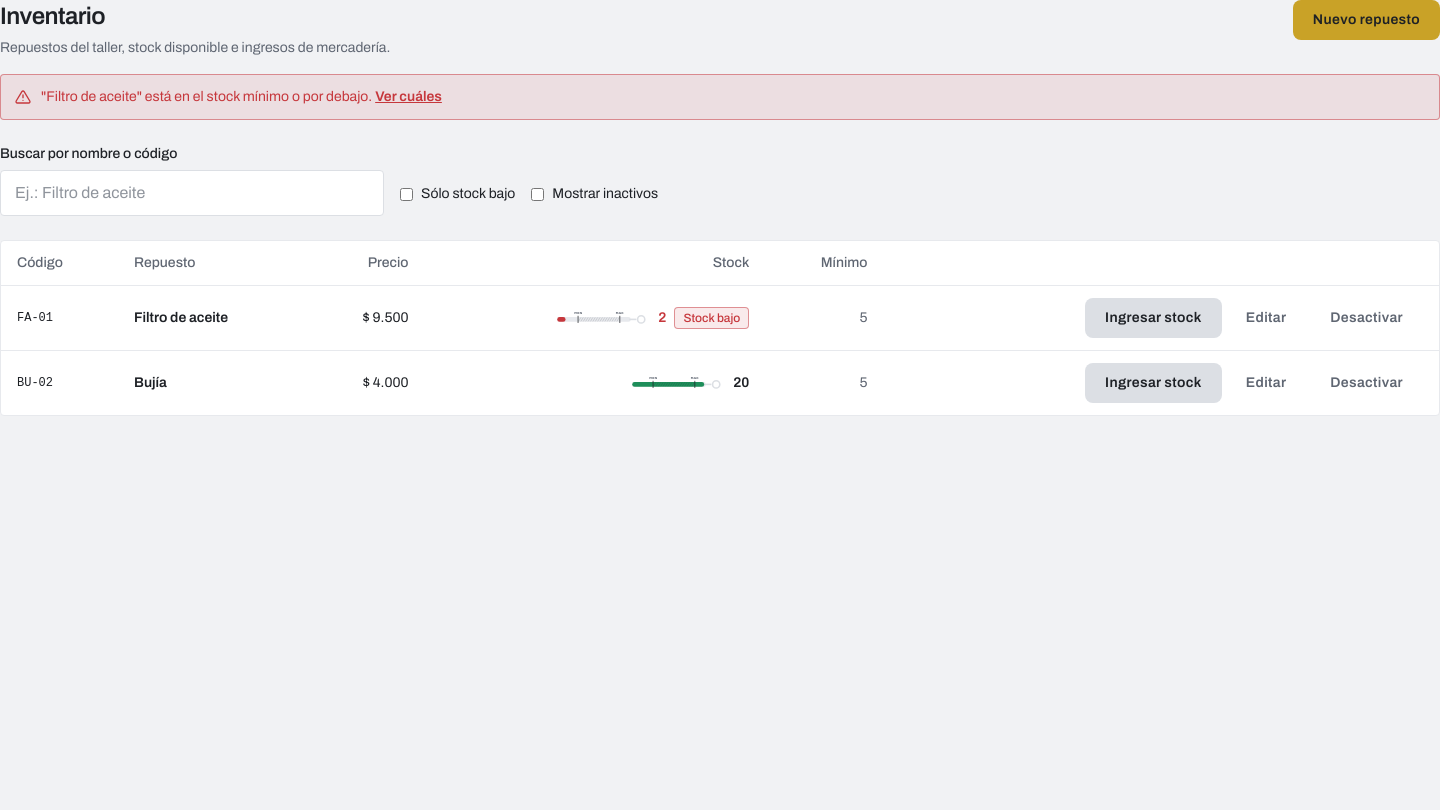
Scenario: Inventario › ingresar stock valida la cantidad y suma las unidades
Expected: the table is shown, [1, 241, 1439, 415]
Click the button "Ingresar stock" in the row of "FA-01" at (1153, 318), box [1085, 298, 1222, 338]
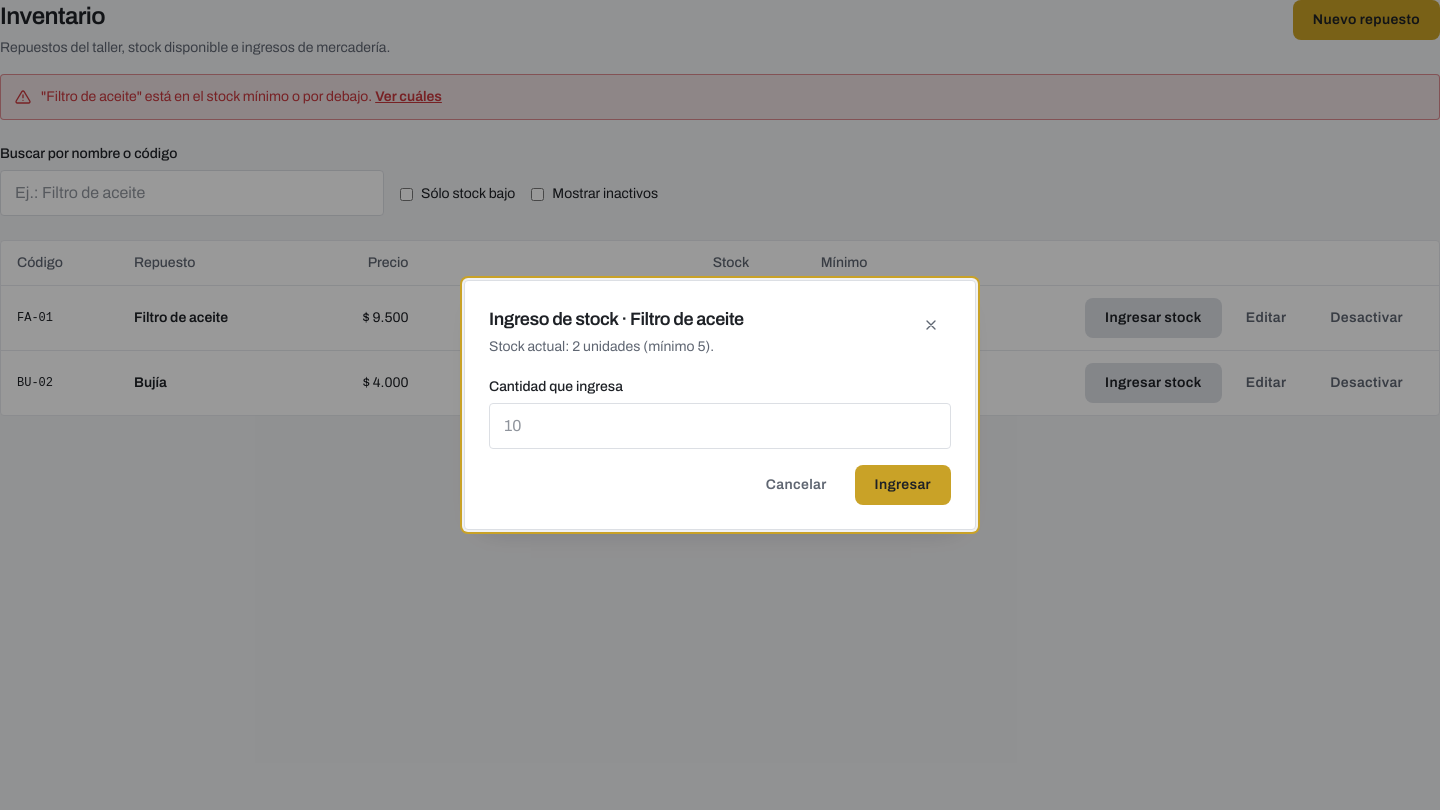
Type "0" into the field labelled "Cantidad que ingresa" at (720, 426), box [489, 403, 951, 449]
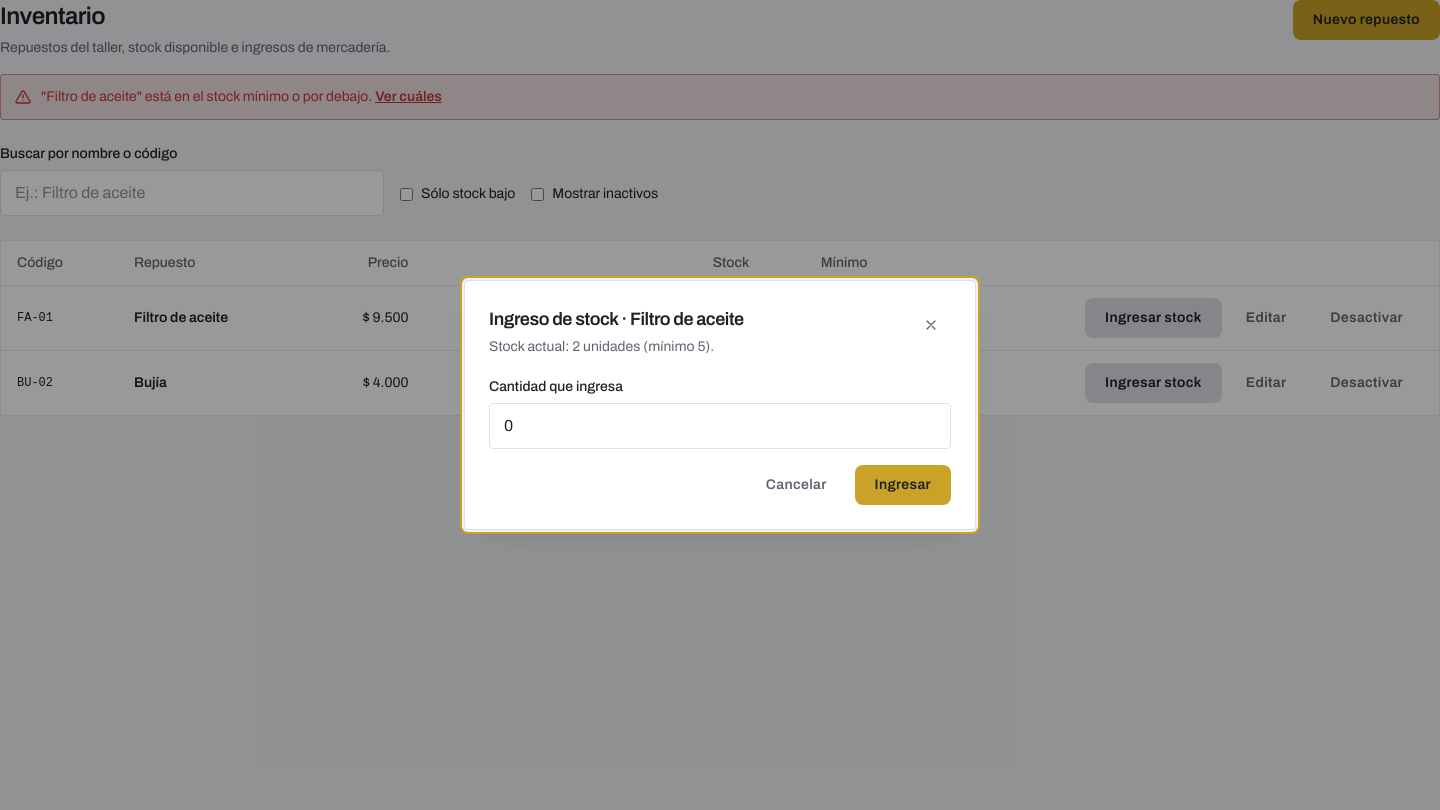
Click the button "Ingresar" at (903, 485), box [855, 465, 951, 505]
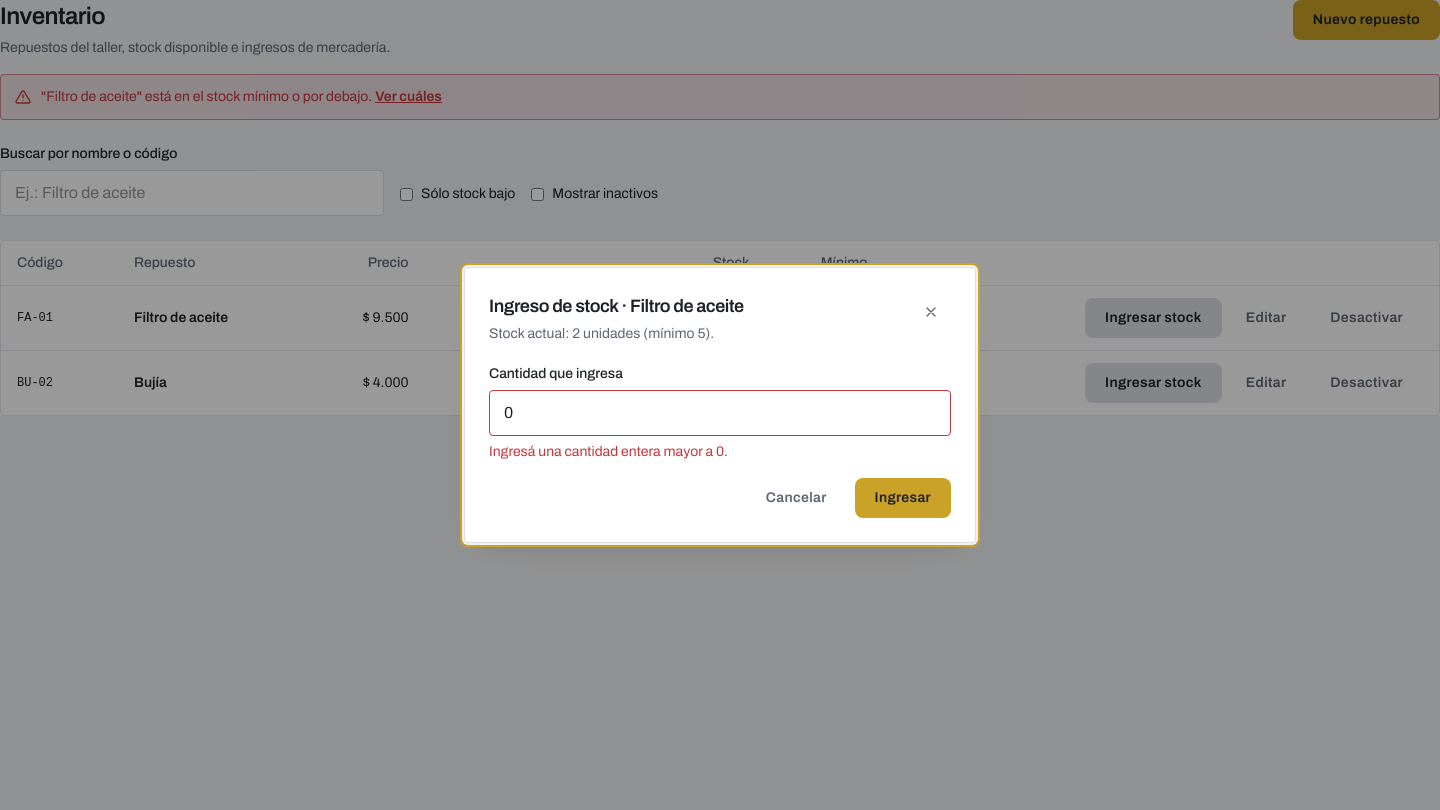
Expected: the text "Ingresá una cantidad entera mayor a 0." is shown, [489, 444, 728, 459]
Replace the text in the field labelled "Cantidad que ingresa" with "3" at (720, 413), box [489, 390, 951, 436]
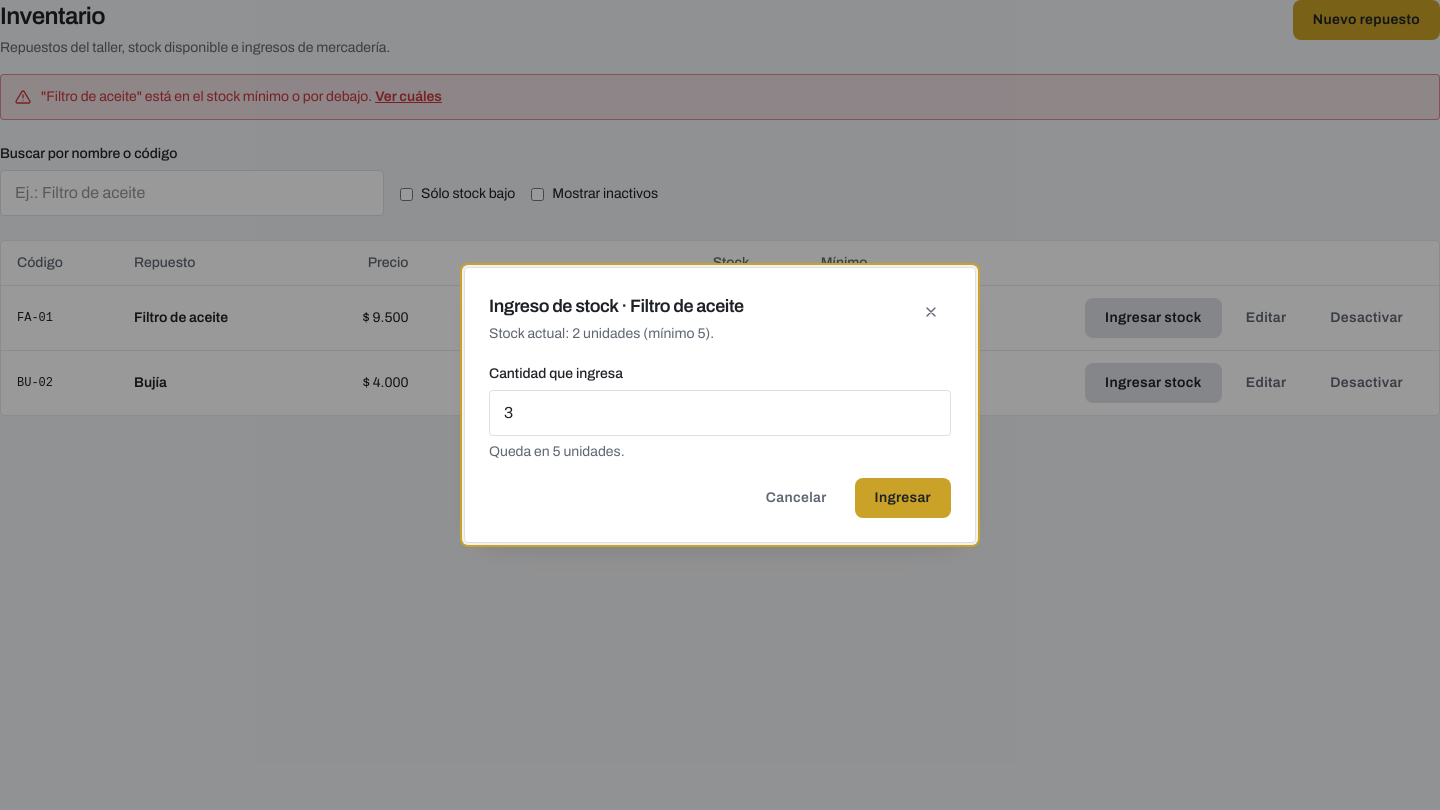
Expected: the text "Queda en 5 unidades." is shown, [489, 444, 625, 459]
Click the button "Ingresar" at (903, 498), box [855, 478, 951, 518]
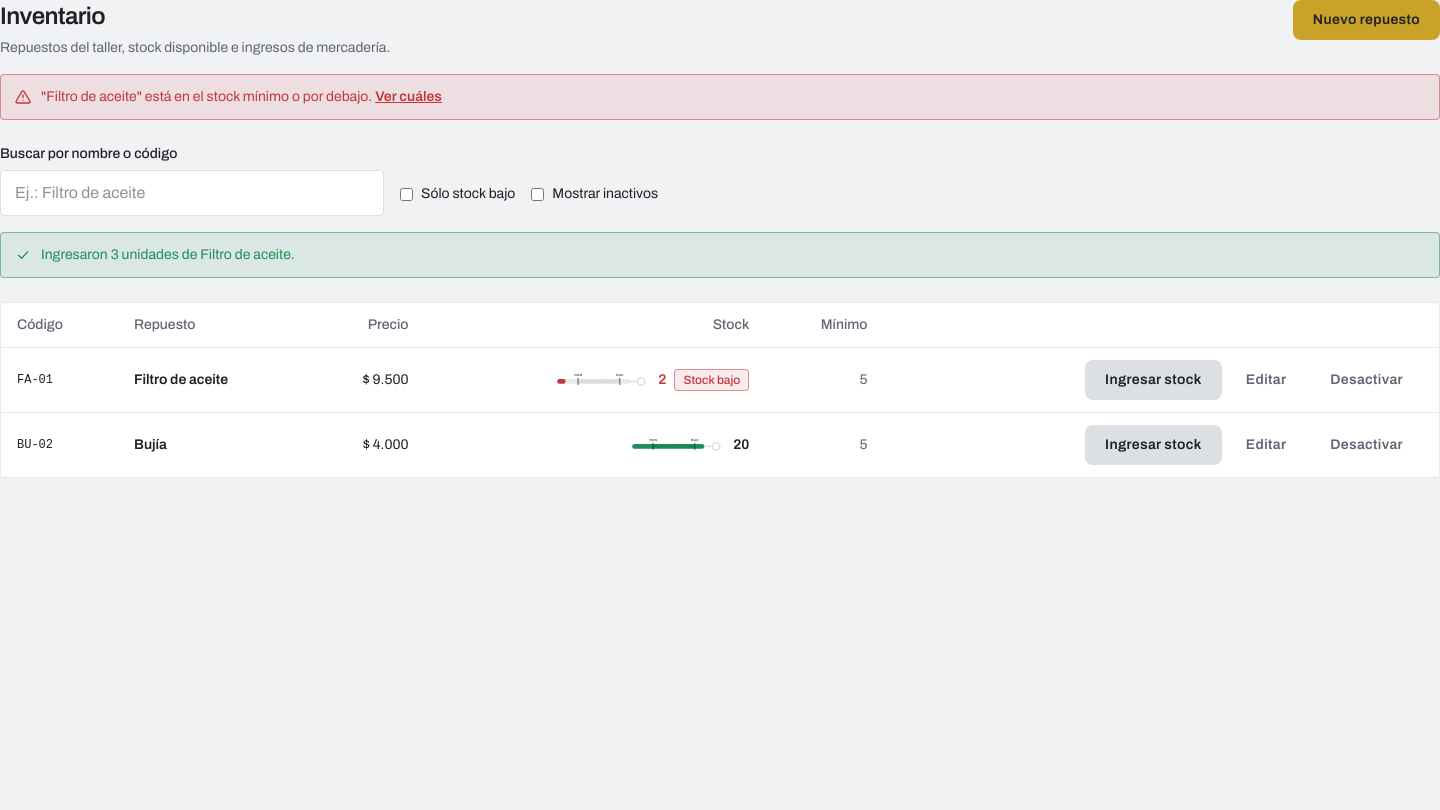
Expected: the text "Ingresaron 3 unidades de Filtro de aceite." is shown, [41, 247, 295, 262]
